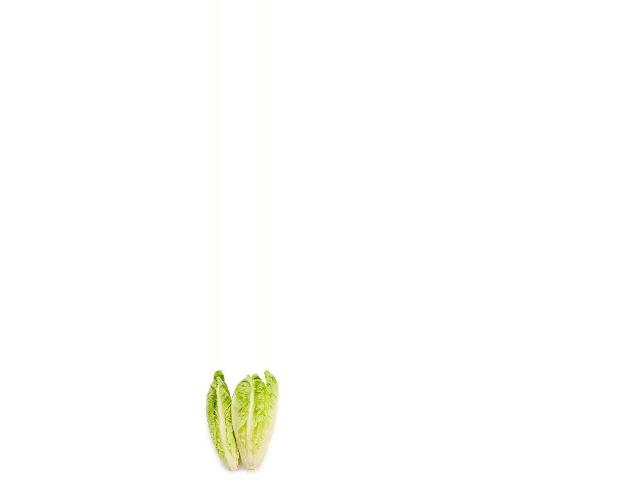lettuce: (196, 369, 241, 477)
